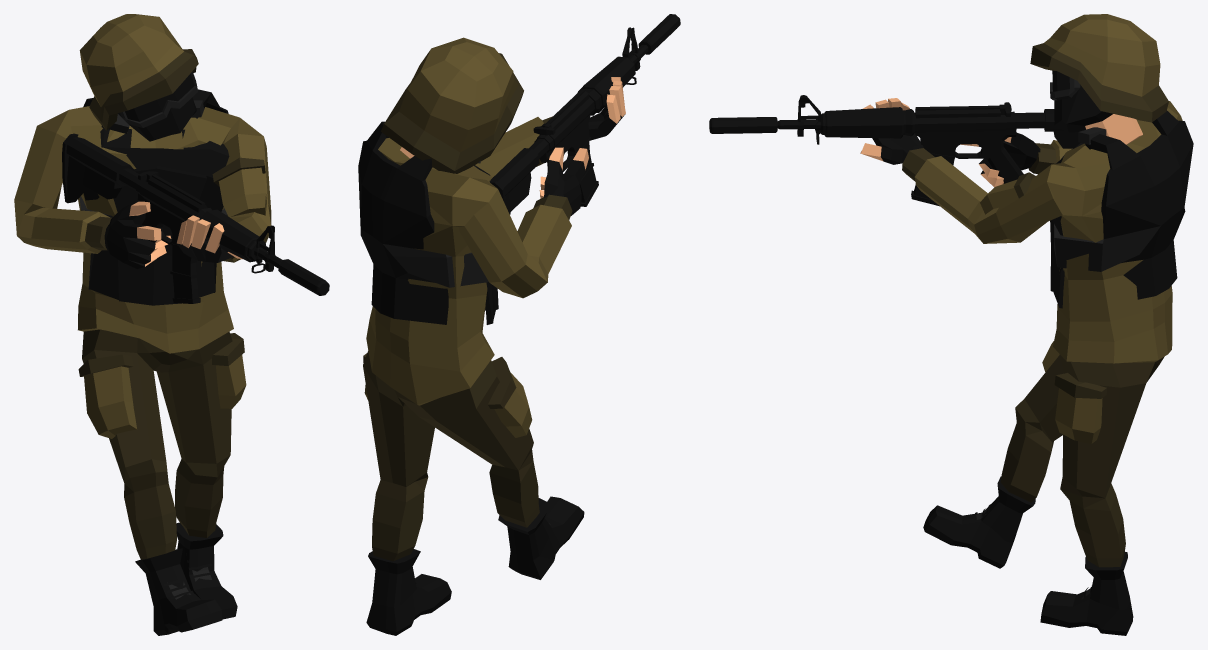
File: shooting3.obj
3 views of the same model, side by side, from view 1: azimuth 30°, elevation 25°; view 2: azimuth 150°, elevation 25°; view 3: azimuth 270°, elevation 25° (orthographic). The views are drawn at different scales.
Visible parts, largest first — view 1: Soldat_Cylinder.001, M4_Cube.001, M4_Amo_Cube.007; view 2: Soldat_Cylinder.001, M4_Cube.001, M4_Amo_Cube.007; view 3: Soldat_Cylinder.001, M4_Cube.001.
Part boxes in pixels (x1,y1,x2,y2): Soldat_Cylinder.001: [14, 14, 271, 635]; M4_Cube.001: [62, 133, 329, 295]; M4_Amo_Cube.007: [170, 245, 200, 303]; Soldat_Cylinder.001: [358, 37, 625, 635]; M4_Cube.001: [489, 14, 680, 214]; M4_Amo_Cube.007: [579, 141, 598, 206]; Soldat_Cylinder.001: [860, 14, 1193, 635]; M4_Cube.001: [709, 95, 1080, 183].
Size of the model in its own units: 11.65 by 31.88 by 24.07.
